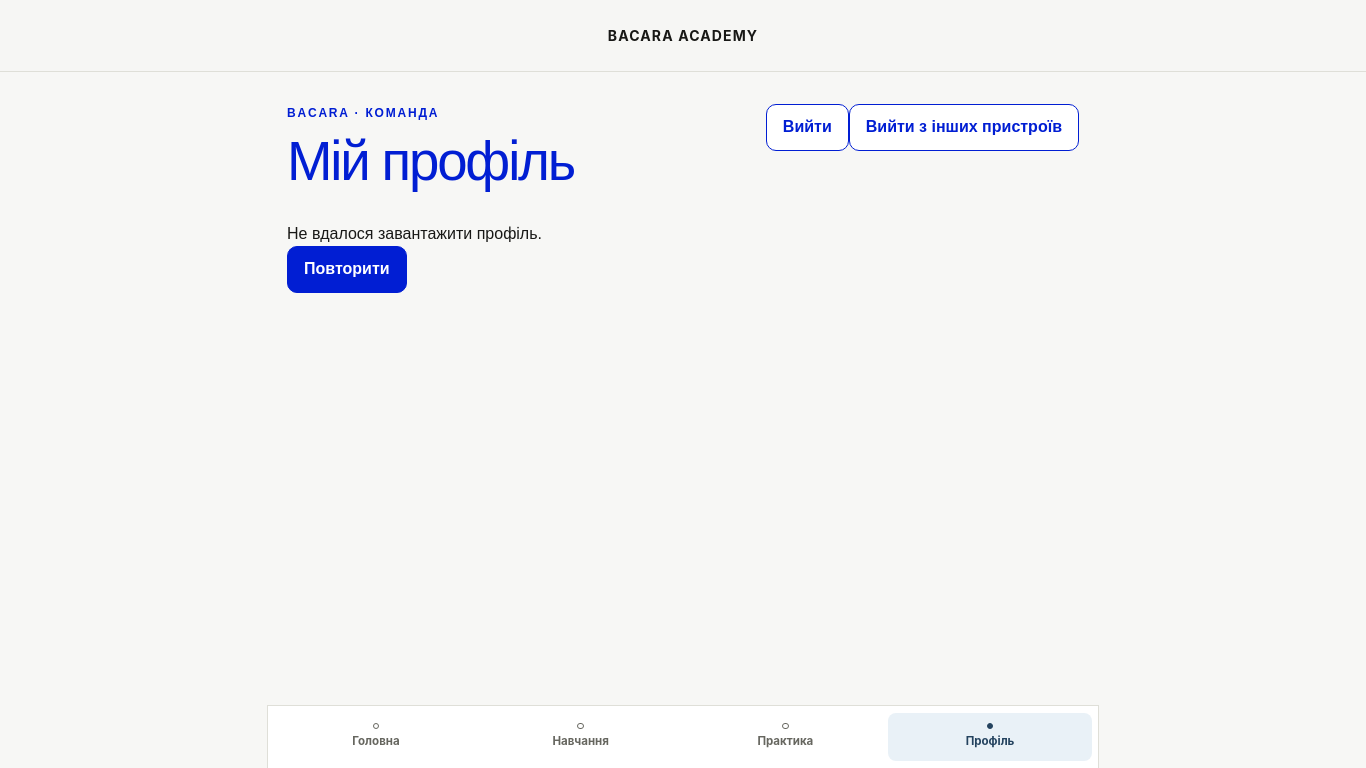
retries a failed read without exposing the raw error
The width and height of the screenshot is (1366, 768).
Expected: the message reads "Не вдалося завантажити профіль.", [287, 225, 542, 242]
Click the button "Повторити" at (347, 269), box [287, 246, 407, 292]
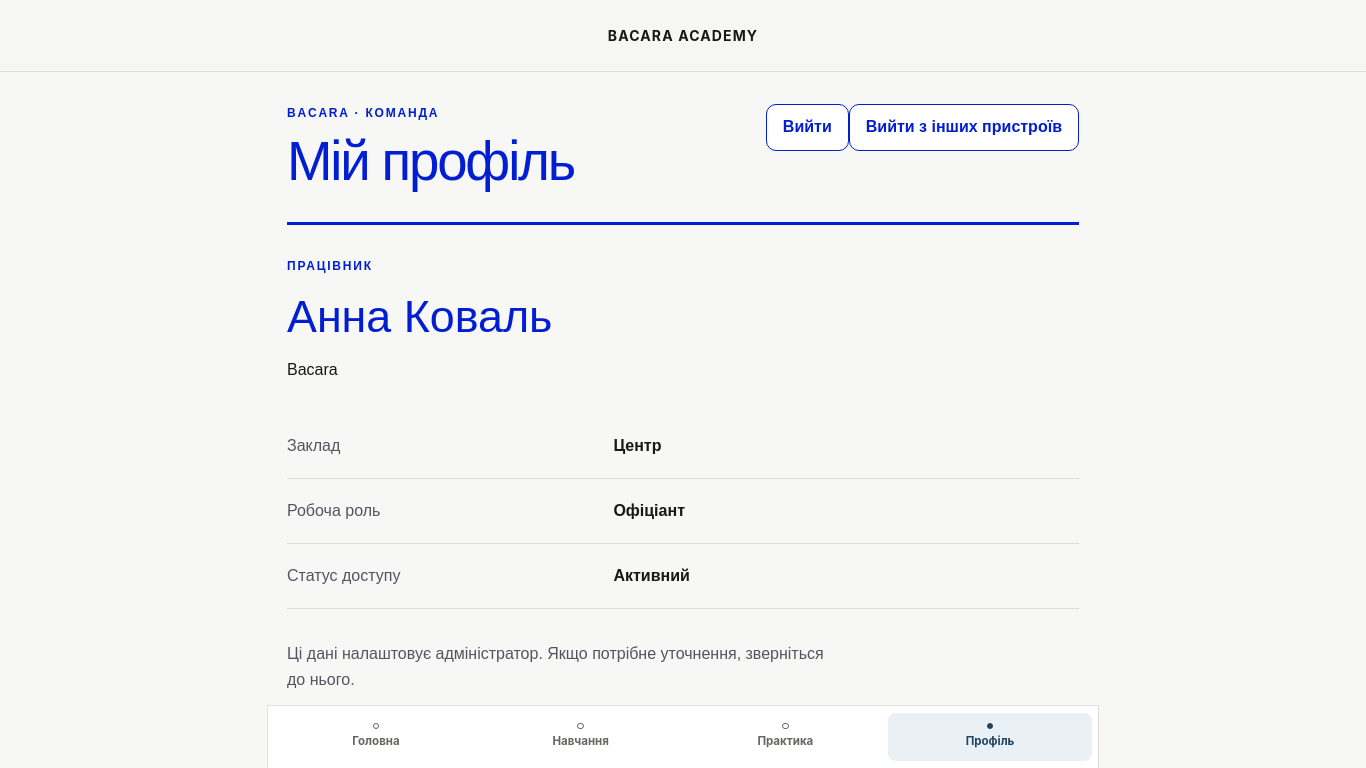
Now the heading "Анна Коваль" is shown, box [287, 291, 552, 341]
